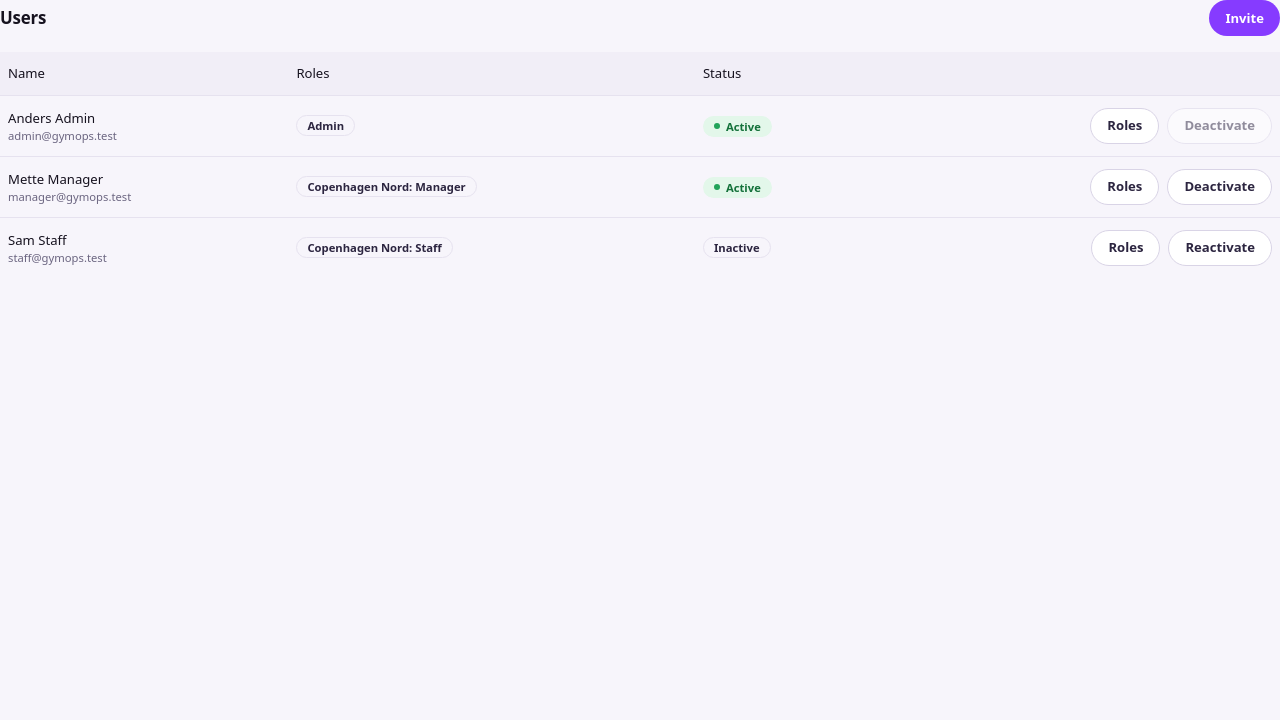
it: RolesDialog › offers an admin every gym and both roles, preselecting what the user holds
Click the button "Roles" in the row of "Mette Manager".
click(1125, 187)  # box x1=1090 y1=169 x2=1159 y2=205
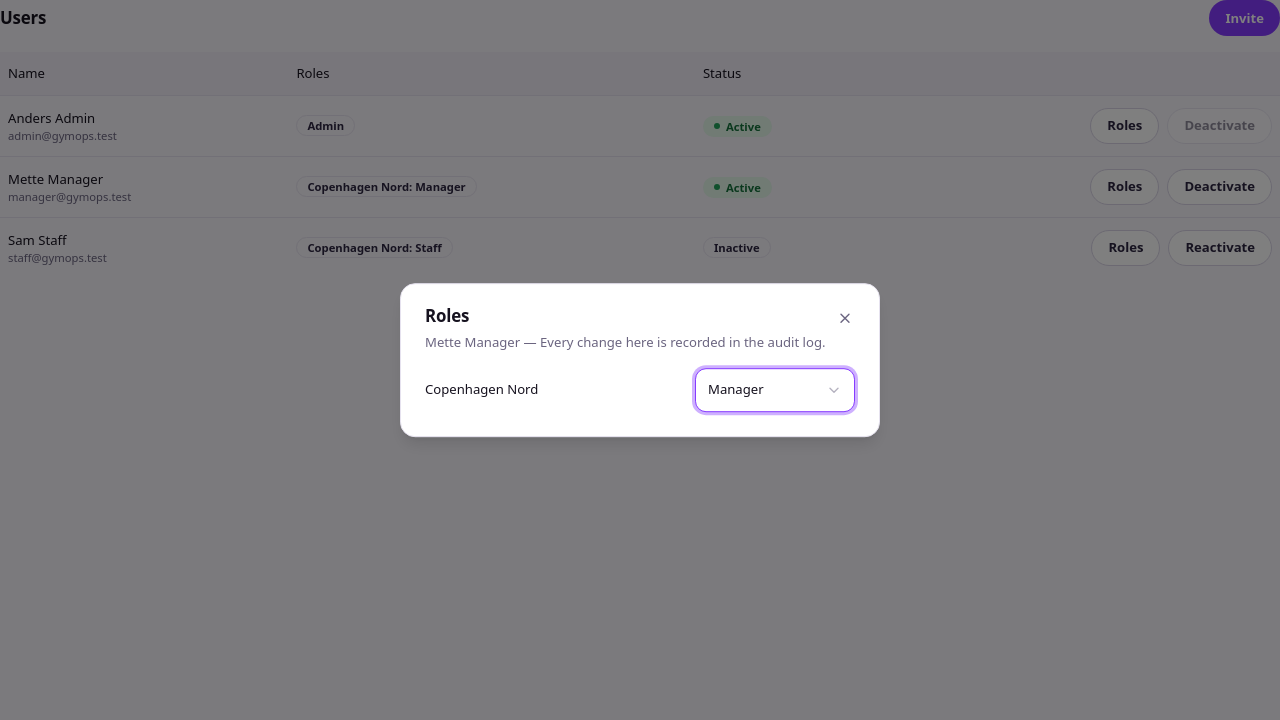
Check: the dropdown named "Copenhagen Nord" reads "Manager"
Click the dropdown named "Copenhagen Nord".
click(775, 390)  # box x1=695 y1=368 x2=855 y2=412
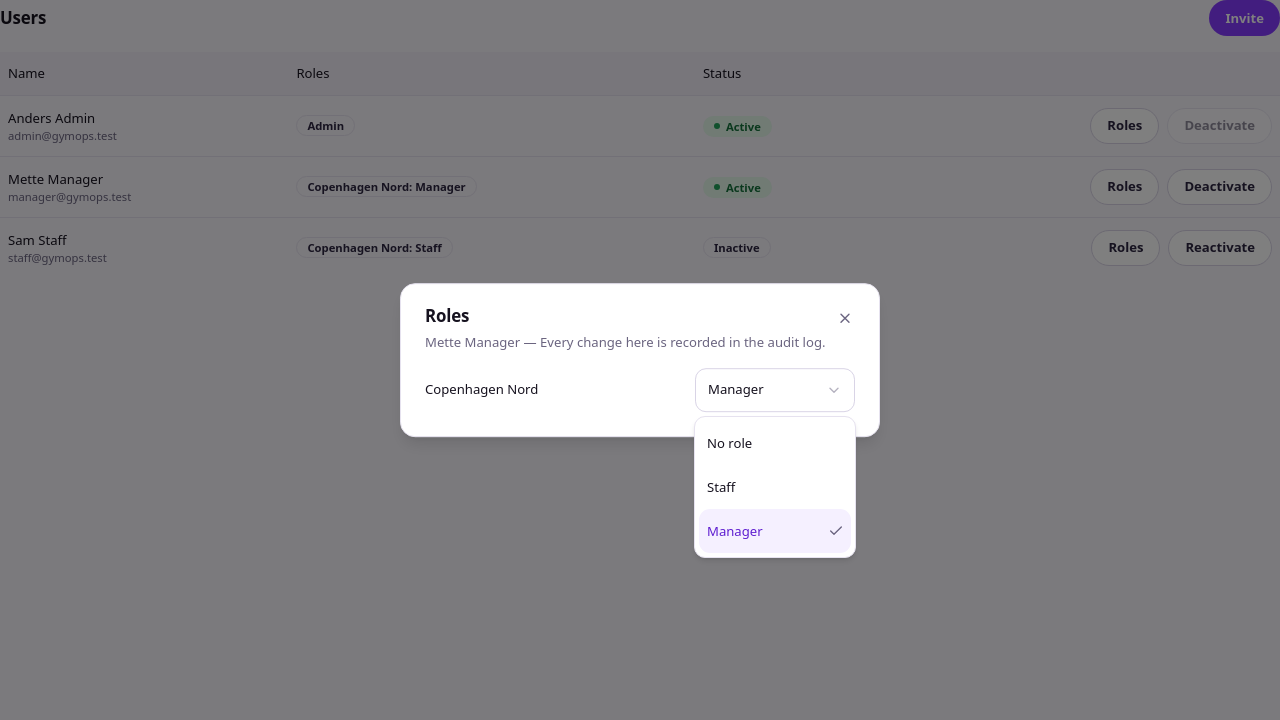
Check: the option "Manager" is shown, box x1=699 y1=509 x2=851 y2=553
